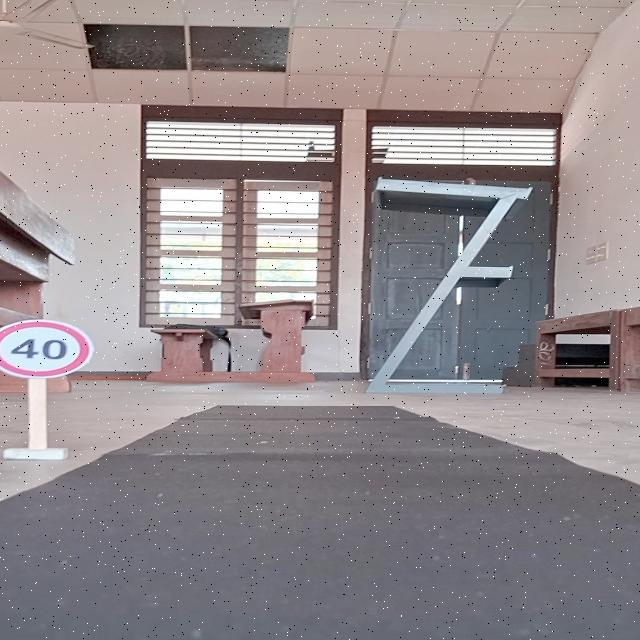Speed40: (0, 318, 95, 381)
